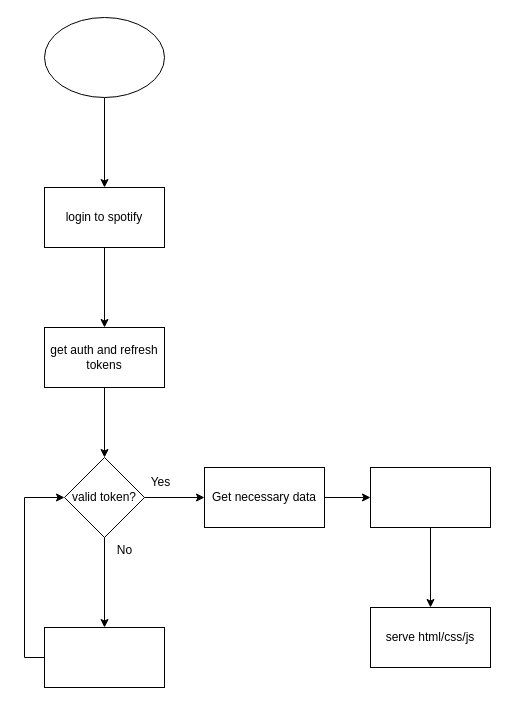
The diagram is 508 pixels wide and 705 high, and some of its shapes have lost their labels. Each missing label, with the centre of its shape:
"build html" belongs at [430,497].
"start" belongs at [104,57].
"Try again" belongs at [104,657].
